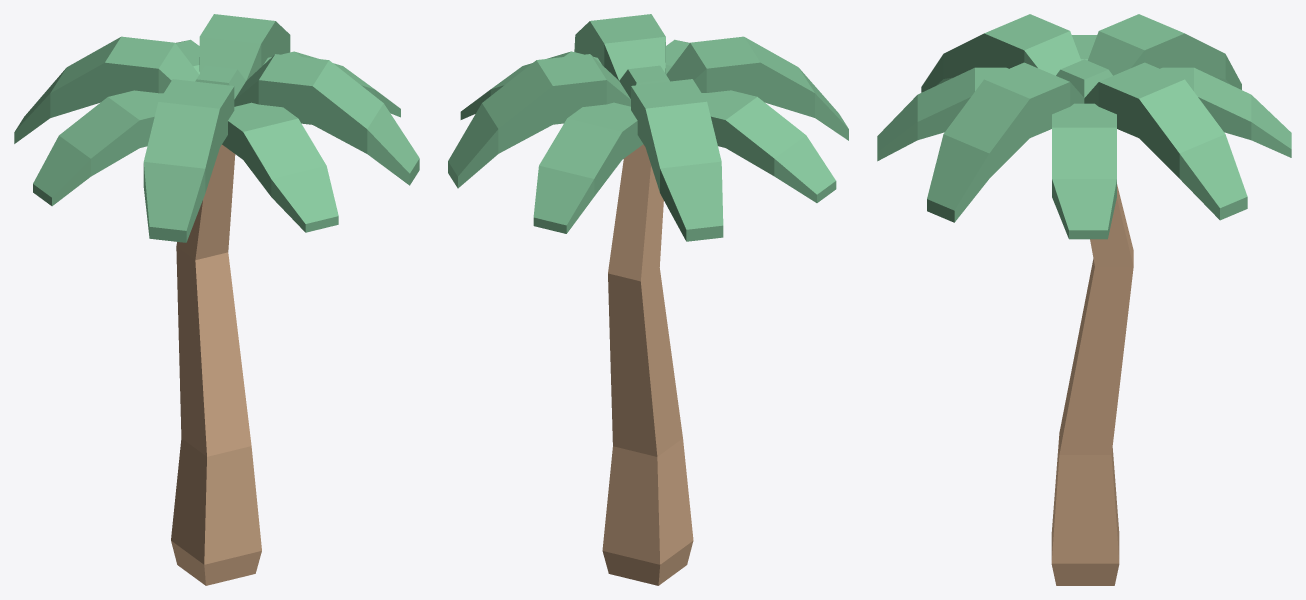
Rendered from palm_detailed_long.glb.
3 renders of one model, left to right at view 1: azimuth 30°, elevation 25°; view 2: azimuth 150°, elevation 25°; view 3: azimuth 270°, elevation 25°, orthographic.
Parts seen in each view (by area): view 1: Group 154, Group 152; view 2: Group 154, Group 152; view 3: Group 154, Group 152.
Part boxes in pixels (x1=…): Group 154: x1=14, y1=14, x2=419, y2=242; Group 152: x1=171, y1=144, x2=261, y2=585; Group 154: x1=448, y1=14, x2=848, y2=241; Group 152: x1=602, y1=144, x2=693, y2=585; Group 154: x1=877, y1=14, x2=1291, y2=239; Group 152: x1=1051, y1=184, x2=1133, y2=585.
Size of the model in its own units: 1.54 by 2.13 by 1.54.
